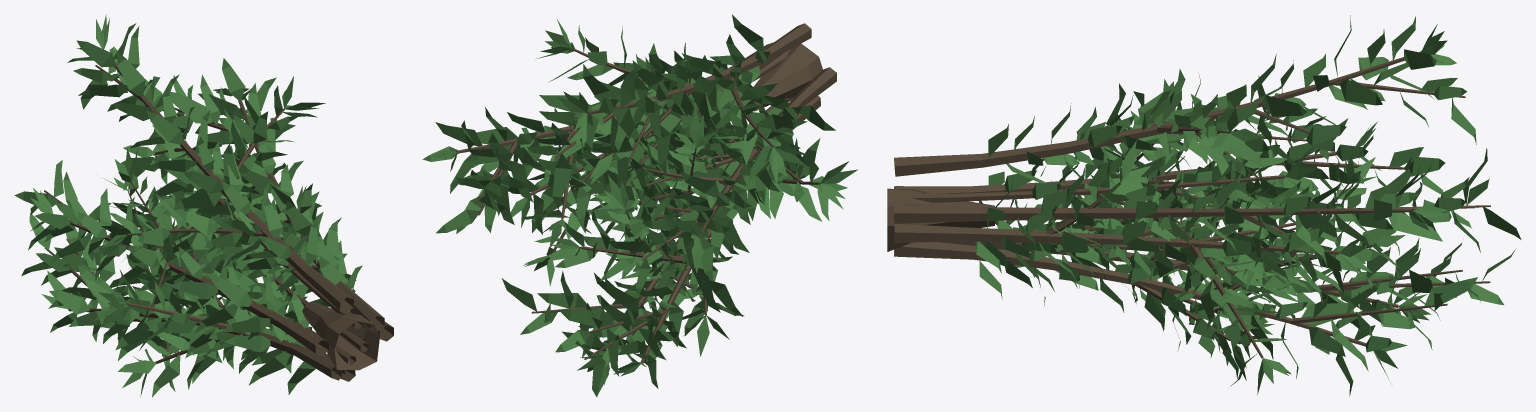
Rendered from busch3_neu.fbx.
3 views of the same model, side by side, from view 1: azimuth 30°, elevation 25°; view 2: azimuth 150°, elevation 25°; view 3: azimuth 270°, elevation 25° (orthographic). The views are drawn at different scales.
Parts seen in each view (by area): view 1: Busch3; view 2: Busch3; view 3: Busch3.
Boxes of the visible parts, <box> form: Busch3: <box>14,14,393,397</box>; Busch3: <box>422,14,857,397</box>; Busch3: <box>887,15,1521,396</box>.
Bounding box in the file's own units: 0.6201 × 0.6493 × 1.01.
